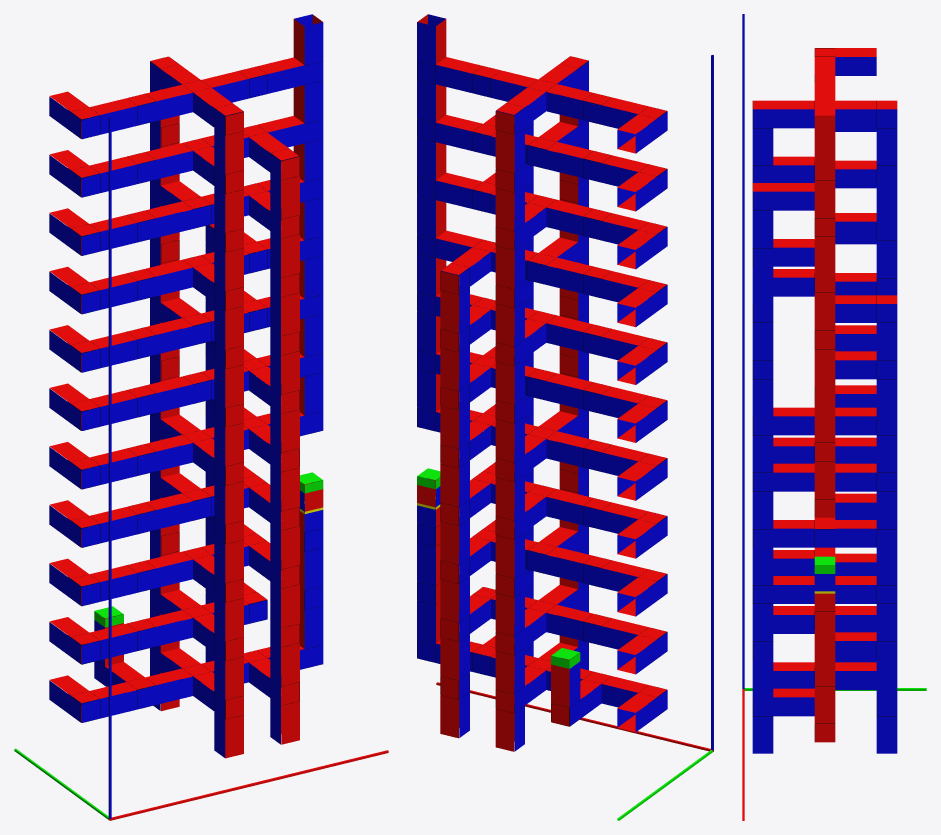
File: factory121.gltf
The picture shows the model from 3 angles, left to right: view 1: azimuth 30°, elevation 25°; view 2: azimuth 150°, elevation 25°; view 3: azimuth 270°, elevation 25°; orthographic projection. The views are drawn at different scales.
Visible parts, largest first — view 1: axisK:-J, axisK:-I, edgeI(1, 1, 7):-J, edgeI(1, 1, 9):-J, edgeI(1, 1, 4):-J, edgeI(1, 1, 6):-J, edgeI(3, 1, 11):-J, edgeK(2, 0, 10):-J, edgeK(3, 0, 3):-J, edgeK(2, 0, 2):-J, edgeK(2, 0, 4):-J, edgeK(2, 0, 8):-J (+45 smaller); view 2: axisK:+J, edgeJ(2, 2, 1):+J, edgeJ(2, 2, 4):+J, edgeJ(2, 2, 5):+J, edgeJ(2, 2, 6):+J, edgeJ(2, 2, 0):+J, edgeJ(2, 2, 2):+J, edgeJ(2, 2, 3):+J, edgeJ(2, 2, 7):+J, edgeJ(2, 2, 8):+J, edgeJ(2, 2, 9):+J, edgeJ(2, 2, 10):+J (+45 smaller); view 3: axisK:+I, edgeJ(3, 0, 1):+I (×2), edgeJ(3, 0, 5):+I (×2), edgeJ(3, 0, 6):+I (×2), edgeJ(3, 0, 3):+I (×2), edgeJ(3, 0, 4):+I (×2), edgeJ(3, 0, 9):+I (×2), edgeJ(2, 0, 10):+I (×2), edgeJ(3, 0, 8):+I, edgeJ(0, 1, 9):+I, edgeJ(2, 0, 11):+I, edgeJ(2, 1, 11):+I (+118 smaller).
Boxes of the visible parts, x1,y1,x2,y2 form: axisK:-J: [110, 118, 111, 818]; axisK:-I: [108, 118, 109, 818]; edgeI(1, 1, 7):-J: [156, 326, 193, 354]; edgeI(1, 1, 9):-J: [156, 209, 193, 237]; edgeI(1, 1, 4):-J: [156, 501, 193, 529]; edgeI(1, 1, 6):-J: [156, 384, 193, 412]; edgeI(3, 1, 11):-J: [267, 65, 304, 93]; edgeK(2, 0, 10):-J: [225, 131, 243, 174]; edgeK(3, 0, 3):-J: [281, 526, 299, 569]; edgeK(2, 0, 2):-J: [225, 598, 243, 641]; edgeK(2, 0, 4):-J: [225, 481, 243, 524]; edgeK(2, 0, 8):-J: [225, 248, 243, 291]; axisK:+J: [711, 55, 712, 750]; edgeJ(2, 2, 1):+J: [495, 651, 514, 693]; edgeJ(2, 2, 4):+J: [495, 477, 514, 520]; edgeJ(2, 2, 5):+J: [495, 419, 514, 462]; edgeJ(2, 2, 6):+J: [495, 361, 514, 404]; edgeJ(2, 2, 0):+J: [495, 709, 514, 751]; edgeJ(2, 2, 2):+J: [495, 593, 514, 635]; edgeJ(2, 2, 3):+J: [495, 535, 514, 577]; edgeJ(2, 2, 7):+J: [495, 304, 514, 346]; edgeJ(2, 2, 8):+J: [495, 246, 514, 288]; edgeJ(2, 2, 9):+J: [495, 188, 514, 230]; edgeJ(2, 2, 10):+J: [495, 130, 514, 172]; axisK:+I: [742, 15, 744, 688]; edgeJ(3, 0, 1):+I (×2): [752, 660, 814, 716]; edgeJ(3, 0, 5):+I (×2): [752, 435, 814, 491]; edgeJ(3, 0, 6):+I (×2): [752, 379, 814, 435]; edgeJ(3, 0, 3):+I (×2): [752, 547, 814, 603]; edgeJ(3, 0, 4):+I (×2): [752, 491, 814, 547]; edgeJ(3, 0, 9):+I (×2): [752, 210, 814, 266]; edgeJ(2, 0, 10):+I (×2): [752, 128, 814, 182]; edgeJ(3, 0, 8):+I: [752, 266, 773, 304]; edgeJ(0, 1, 9):+I: [835, 169, 876, 188]; edgeJ(2, 0, 11):+I: [773, 109, 814, 128]; edgeJ(2, 1, 11):+I: [835, 109, 876, 128].
Size of the model in its own units: 15 by 36.5 by 8.91.
